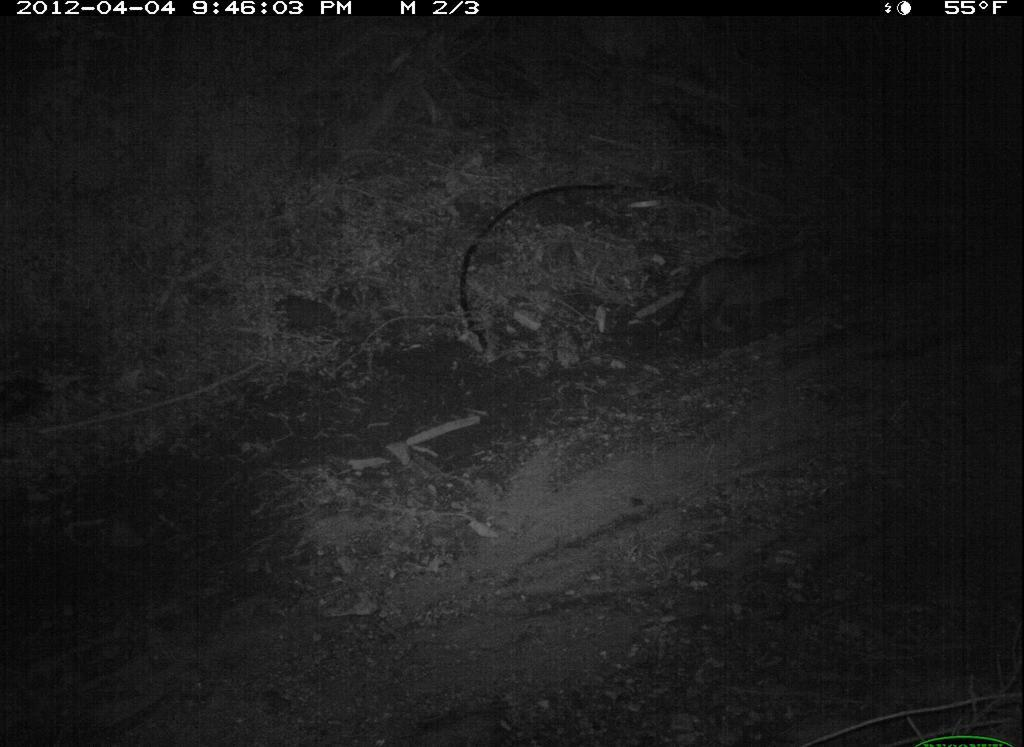cat: (662, 232, 824, 360)
